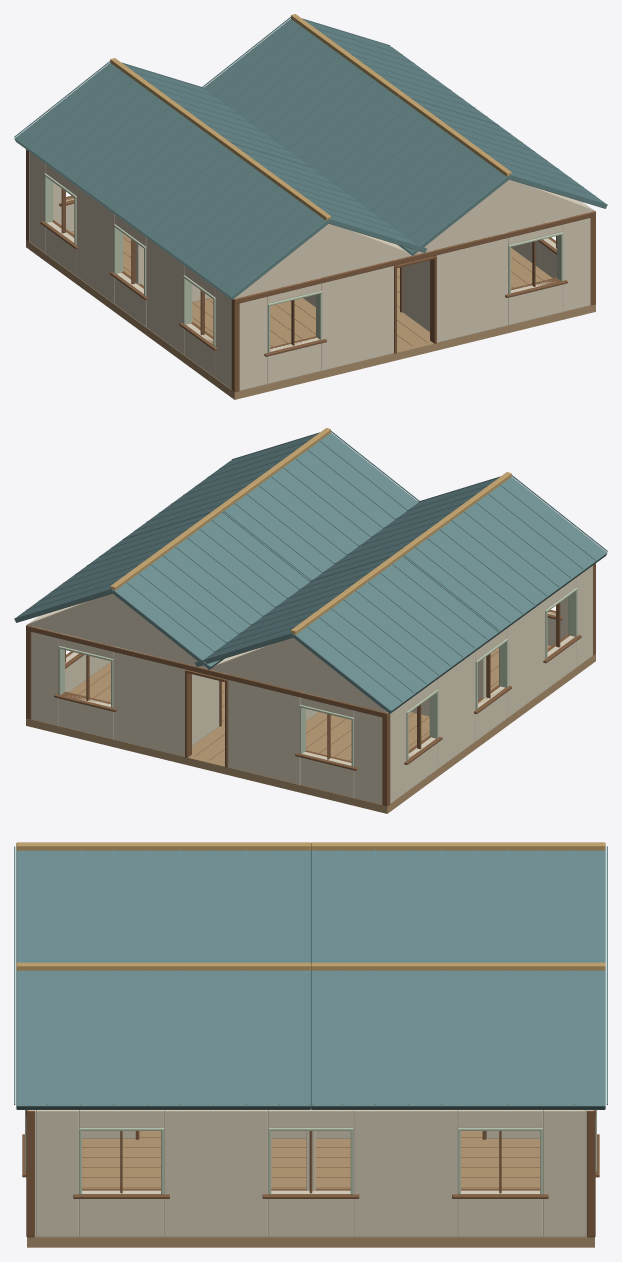
The model's file is residential_wing.glb.
3 views of the same model, one above another, from view 1: azimuth 30°, elevation 25°; view 2: azimuth 150°, elevation 25°; view 3: azimuth 270°, elevation 25° (orthographic). The views are drawn at different scales.
Visible parts, largest first — view 1: Roof_Wing_Section_0_0_-1_001-col, Roof_Wing_Section_0_1_-1_001-col, Roof_Wing_Section_1_0_-1_001-col, Roof_Wing_Section_1_1_-1_001-col, Wing_Floor_001-col, Wing_SouthExterior_pier_002-col, Wing_SouthExterior_pier_003-col, Roof_Wing_Gable_0_-5.9-col, Roof_Wing_Gable_1_-5.9-col, Roof_Wing_Section_1_0_1_001-col, Roof_Wing_Section_0_0_1_001-col, Roof_Wing_Section_1_1_1_001-col (+22 smaller); view 2: Roof_Wing_Section_0_1_-1_001-col, Roof_Wing_Section_0_0_-1_001-col, Roof_Wing_Section_1_1_-1_001-col, Roof_Wing_Section_1_0_-1_001-col, Wing_Floor_001-col, Wing_NorthExterior_pier_002-col, Wing_NorthExterior_pier_003-col, Roof_Wing_Gable_0_5.9-col, Roof_Wing_Gable_1_5.9-col, Roof_Wing_Section_1_1_1_001-col, Roof_Wing_Section_0_1_1_001-col, Roof_Wing_Section_1_0_1_001-col (+22 smaller); view 3: Roof_Wing_Section_1_0_1_001-col, Roof_Wing_Section_1_1_1_001-col, Roof_Wing_Section_0_0_1_001-col, Roof_Wing_Section_0_1_1_001-col, Wing_Floor_001-col, Wing_SideExterior_pier_006-col, Wing_SideExterior_pier_007-col, Wing_SideExterior_pier_005-col, Wing_SideExterior_pier_008-col, Wing_SideExterior_below_005-col, Wing_SideExterior_below_004-col, Wing_SideExterior_below_006-col (+13 smaller).
Boxes of the visible parts, x1,y1,x2,y2 form: Roof_Wing_Section_0_0_-1_001-col: (122,142,328,299); Roof_Wing_Section_0_1_-1_001-col: (14,63,217,220); Roof_Wing_Section_1_0_-1_001-col: (312,98,509,255); Roof_Wing_Section_1_1_-1_001-col: (203,19,398,166); Wing_Floor_001-col: (26,231,595,399); Wing_SouthExterior_pier_002-col: (321,266,393,370); Wing_SouthExterior_pier_003-col: (436,232,508,342); Roof_Wing_Gable_0_-5.9-col: (234,223,411,298); Roof_Wing_Gable_1_-5.9-col: (414,179,594,254); Roof_Wing_Section_1_0_1_001-col: (413,99,607,208); Roof_Wing_Section_0_0_1_001-col: (233,144,426,252); Roof_Wing_Section_1_1_1_001-col: (304,20,496,123); Roof_Wing_Section_0_1_-1_001-col: (293,556,499,713); Roof_Wing_Section_0_0_-1_001-col: (404,477,607,634); Roof_Wing_Section_1_1_-1_001-col: (112,512,309,669); Roof_Wing_Section_1_0_-1_001-col: (223,433,418,580); Wing_Floor_001-col: (26,645,595,813); Wing_NorthExterior_pier_002-col: (228,680,300,784); Wing_NorthExterior_pier_003-col: (113,646,185,756); Roof_Wing_Gable_0_5.9-col: (210,637,387,712); Roof_Wing_Gable_1_5.9-col: (27,593,207,668); Roof_Wing_Section_1_1_1_001-col: (14,513,208,622); Roof_Wing_Section_0_1_1_001-col: (195,558,388,666); Roof_Wing_Section_1_0_1_001-col: (125,434,317,537); Roof_Wing_Section_1_0_1_001-col: (16,970,310,1109); Roof_Wing_Section_1_1_1_001-col: (311,970,605,1109); Roof_Wing_Section_0_0_1_001-col: (16,850,310,962); Roof_Wing_Section_0_1_1_001-col: (311,850,605,962); Wing_Floor_001-col: (27,1131,594,1247); Wing_SideExterior_pier_006-col: (164,1110,268,1236); Wing_SideExterior_pier_007-col: (353,1110,457,1236); Wing_SideExterior_pier_005-col: (36,1110,78,1236); Wing_SideExterior_pier_008-col: (543,1110,585,1236); Wing_SideExterior_below_005-col: (268,1190,353,1236); Wing_SideExterior_below_004-col: (79,1190,164,1236); Wing_SideExterior_below_006-col: (457,1190,542,1236).
Bounding box in the file's own units: 12.53 × 5.21 × 12.55.
